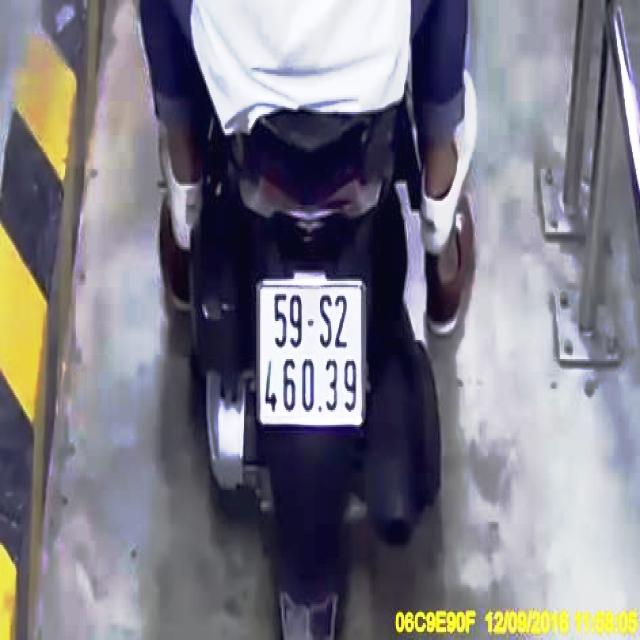license_plate: (261, 285, 366, 424)
